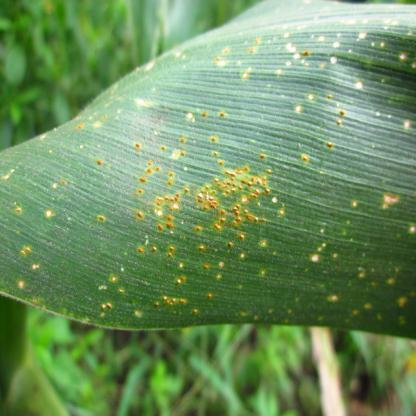corn rust leaf: (2, 6, 415, 341)
